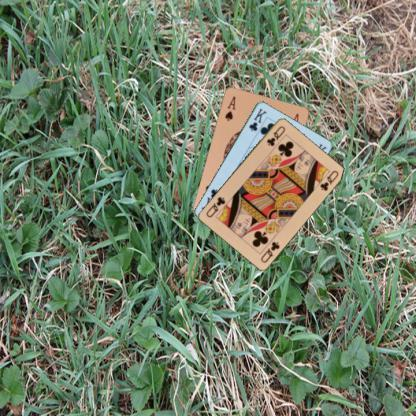As: (222, 94, 236, 122)
Kc: (246, 106, 268, 132)
Qc: (258, 239, 281, 264), (264, 123, 287, 147)
